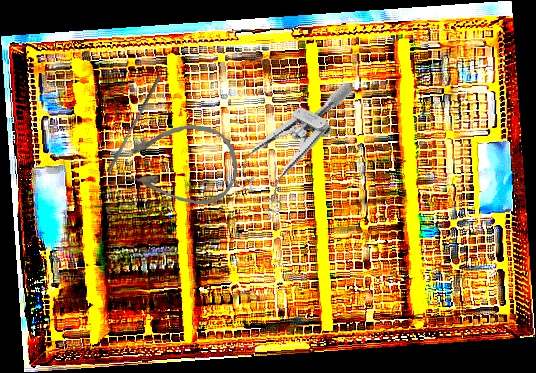Cannula: (122, 123, 239, 205)
Pusher: (106, 72, 162, 176)
Speculum: (223, 57, 355, 227)
